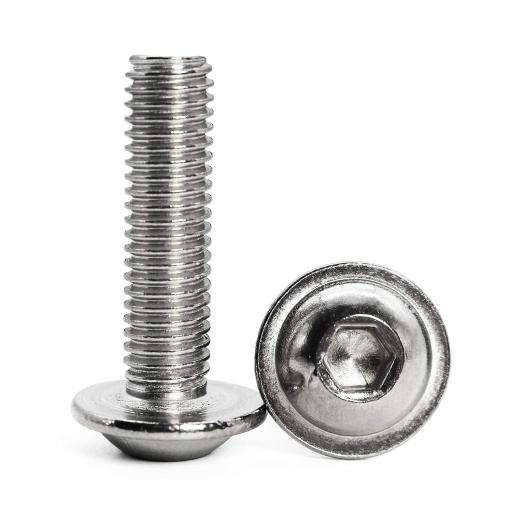Hex-Allen: (255, 263, 453, 463)
